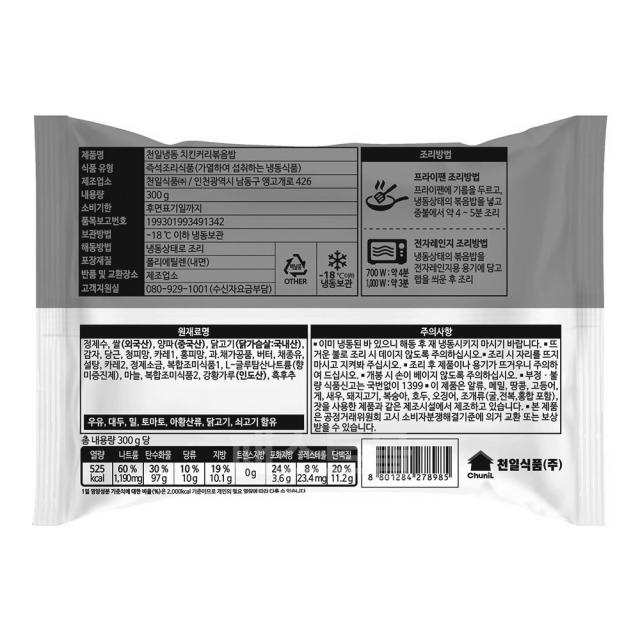Nutrition Label: (69, 437, 369, 505)
